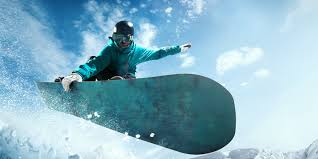snowboard: (33, 74, 238, 156)
